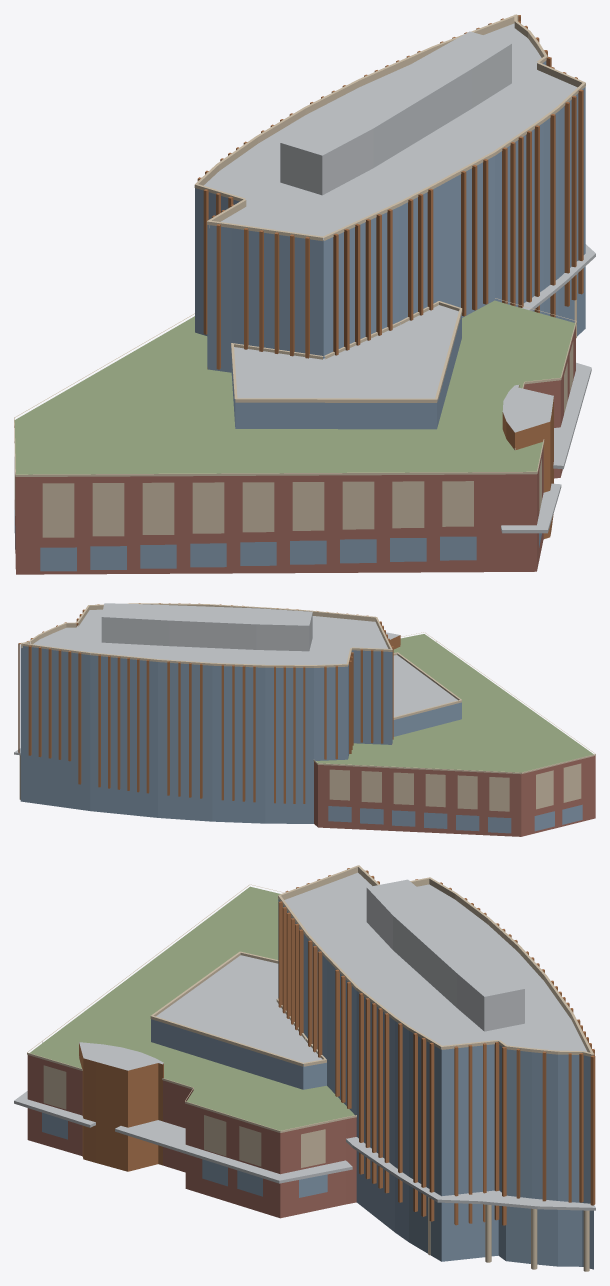
Rendered from detail.glb.
The picture shows the model from 3 angles, top to bottom: view 1: azimuth 30°, elevation 25°; view 2: azimuth 150°, elevation 25°; view 3: azimuth 270°, elevation 25°; orthographic projection. The views are drawn at different scales.
Parts seen in each view (by area): view 1: dimensional-place; view 2: dimensional-place; view 3: dimensional-place.
Part boxes in pixels (x1=…): dimensional-place: x1=14, y1=14, x2=595, y2=574; dimensional-place: x1=14, y1=603, x2=595, y2=836; dimensional-place: x1=14, y1=865, x2=595, y2=1271.
Size of the model in its own units: 134 by 50.55 by 109.
